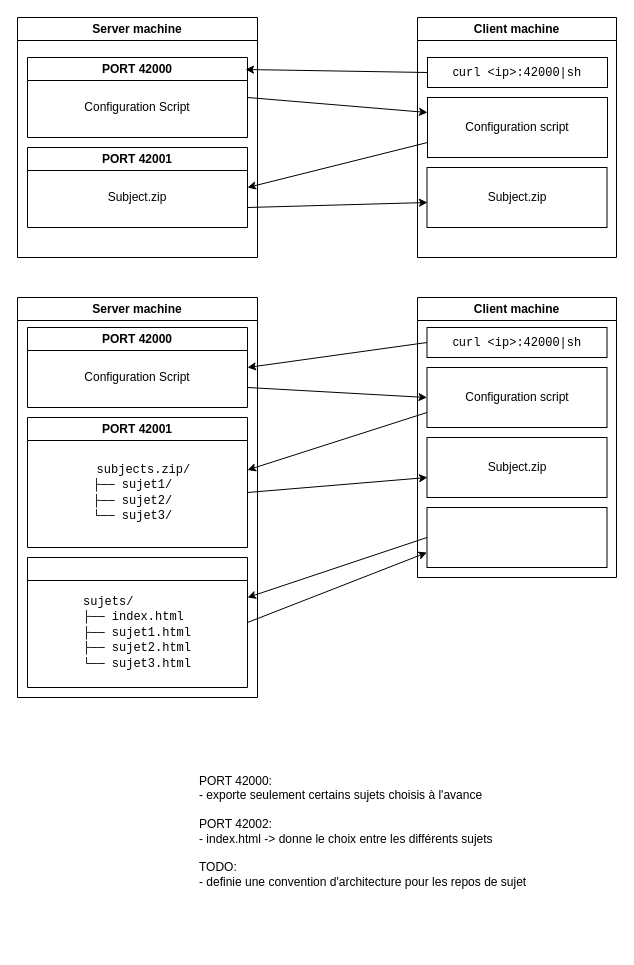
This 634x965 diagram has some shape labels left out. The box of each missing label's shape, as (x1, y1, x2, y2) in pixels:
Firefox: (426, 506, 607, 568)
PORT 42002: (26, 556, 248, 688)
